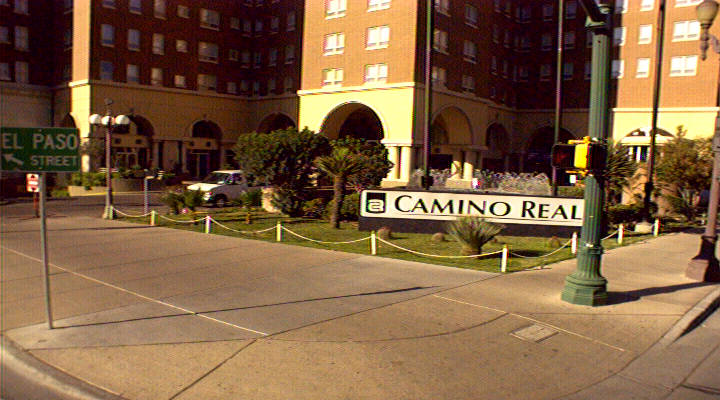Ramp: (8, 294, 709, 400)
